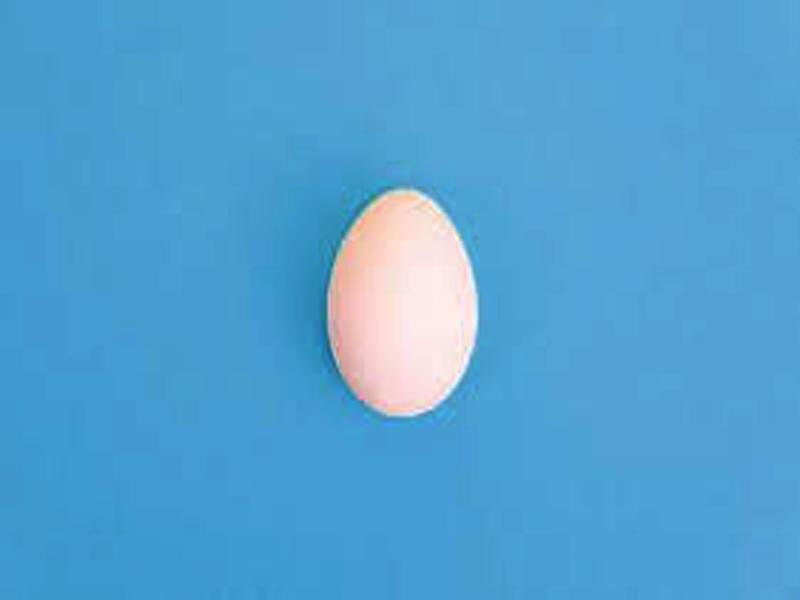Eggs: (325, 183, 475, 417)
